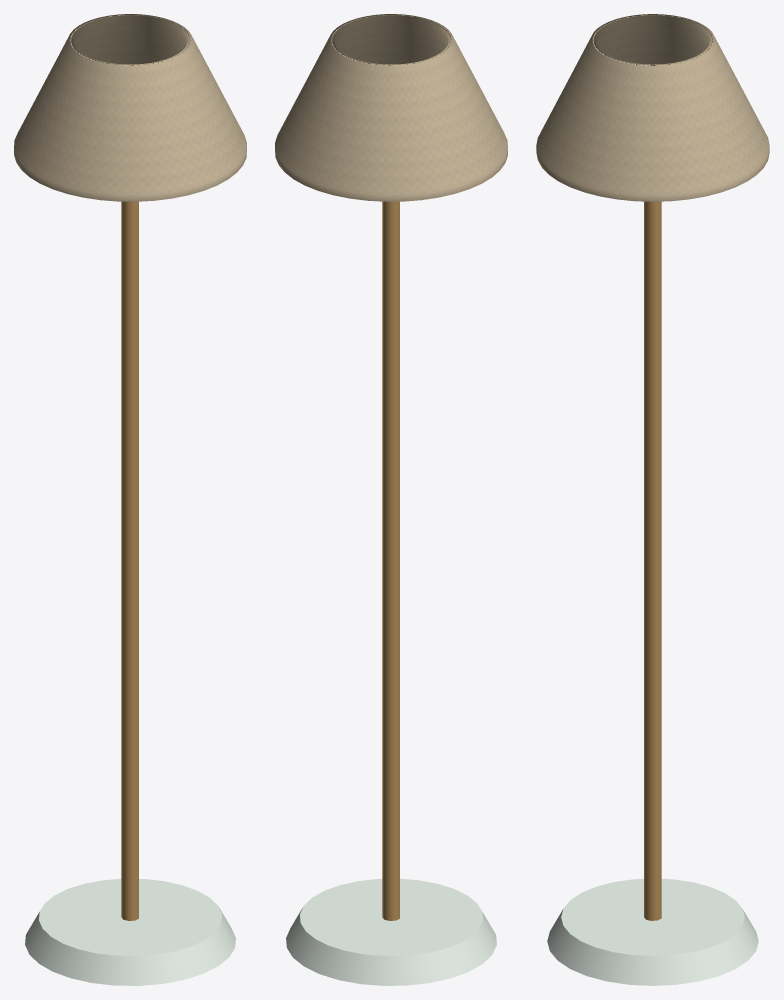
The model's file is floor_lamp_palais-e0259102b012.glb.
3 renders of one model, left to right at view 1: azimuth 30°, elevation 25°; view 2: azimuth 150°, elevation 25°; view 3: azimuth 270°, elevation 25°, orthographic.
Visible parts, largest first — view 1: surface_linen, surface_porcelain, surface_brass; view 2: surface_linen, surface_porcelain, surface_brass; view 3: surface_linen, surface_porcelain, surface_brass.
Part boxes in pixels (x1,y1,x2,y2): surface_linen: [14, 14, 246, 201]; surface_porcelain: [25, 879, 235, 985]; surface_brass: [121, 201, 138, 920]; surface_linen: [275, 14, 507, 201]; surface_porcelain: [286, 878, 496, 985]; surface_brass: [382, 201, 399, 920]; surface_linen: [536, 14, 769, 201]; surface_porcelain: [547, 879, 758, 985]; surface_brass: [644, 201, 661, 920].
Bounding box in the file's own units: 0.386 × 1.64 × 0.386.
Materials: 4 (1 with a texture image).
